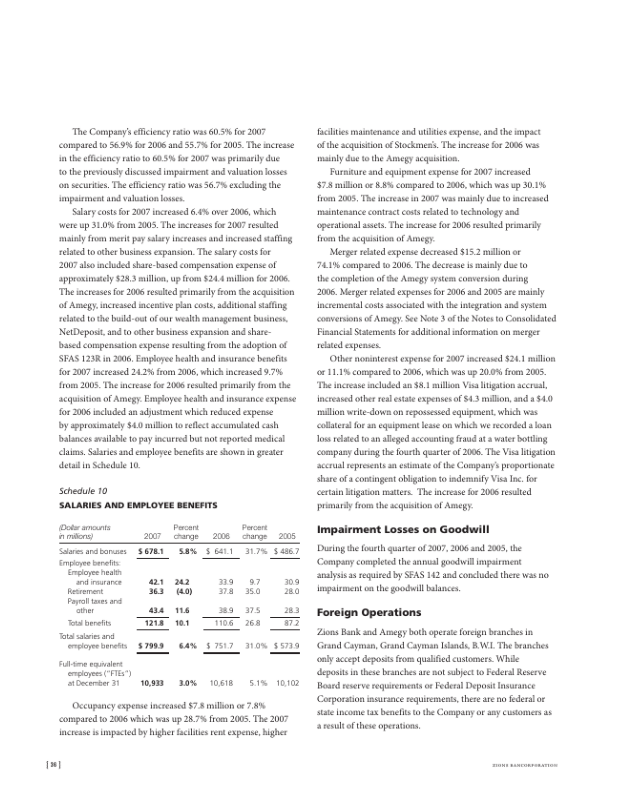table: (58, 514, 298, 698)
